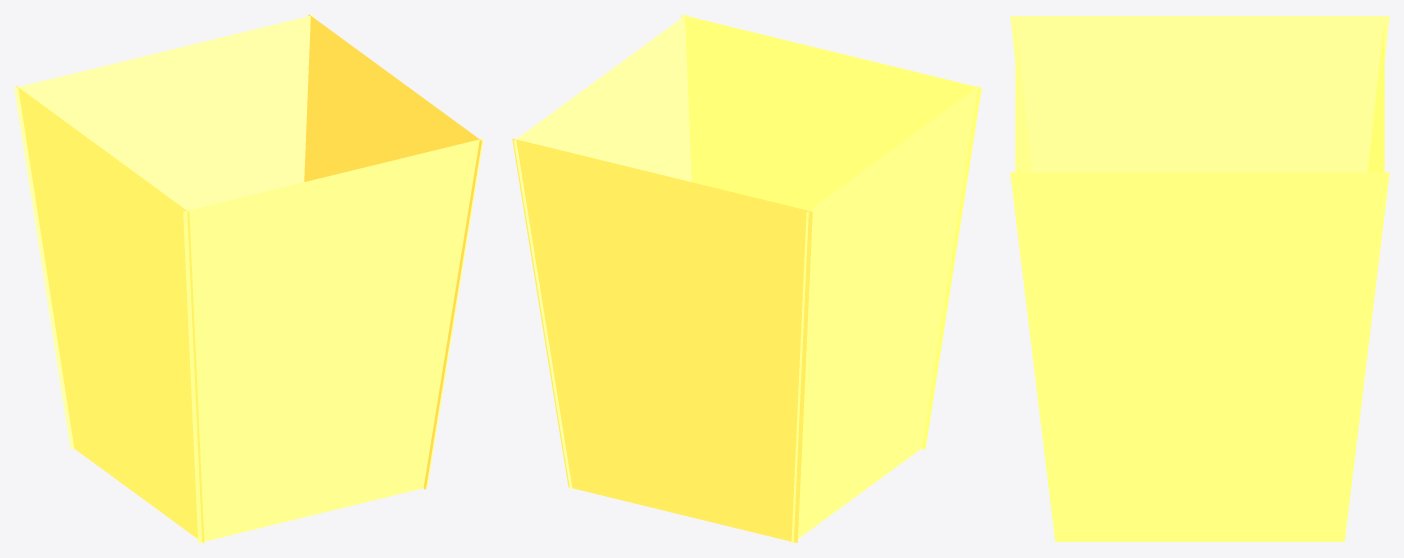
The model's file is lanterne_light.glb.
The picture shows the model from 3 angles, left to right: view 1: azimuth 30°, elevation 25°; view 2: azimuth 150°, elevation 25°; view 3: azimuth 270°, elevation 25°; orthographic projection. The views are drawn at different scales.
Visible parts, largest first — view 1: lanterne.001; view 2: lanterne.001; view 3: lanterne.001.
Boxes of the visible parts, x1,y1,x2,y2 form: lanterne.001: (14,14,483,543); lanterne.001: (512,14,981,543); lanterne.001: (1010,16,1389,542).
Bounding box in the file's own units: 0.4238 × 0.4786 × 0.4238.
